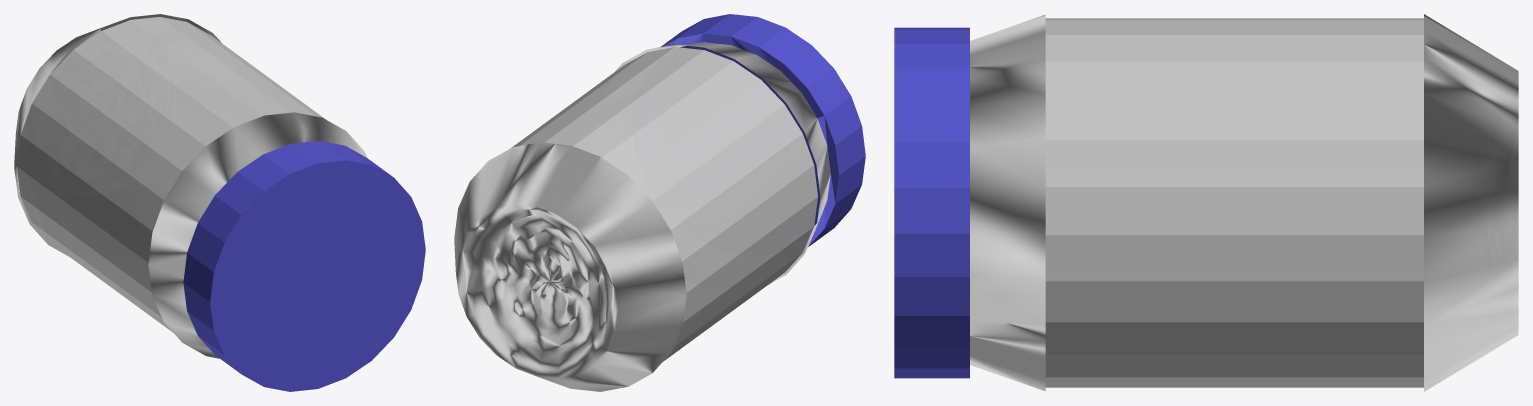
Rendered from model_align.obj.
3 renders of one model, left to right at view 1: azimuth 30°, elevation 25°; view 2: azimuth 150°, elevation 25°; view 3: azimuth 270°, elevation 25°, orthographic. The views are drawn at different scales.
Bounding box in the file's own units: 0.107 × 0.107 × 0.176.
